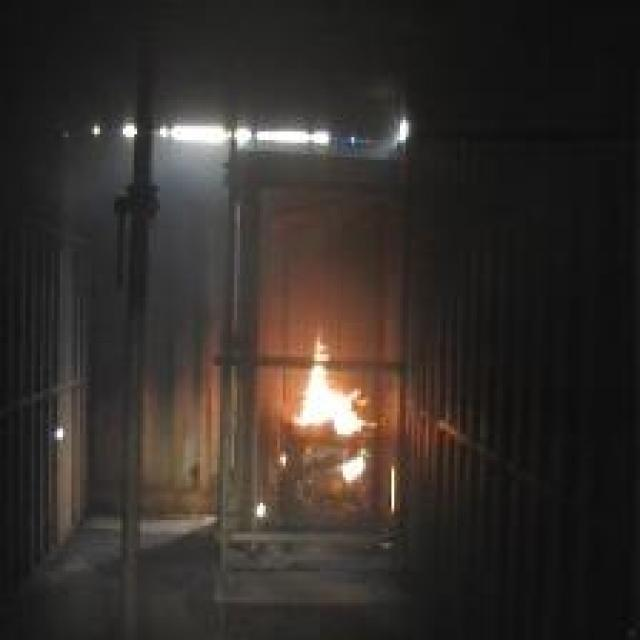Fire: (296, 340, 378, 434), (342, 448, 364, 482)
